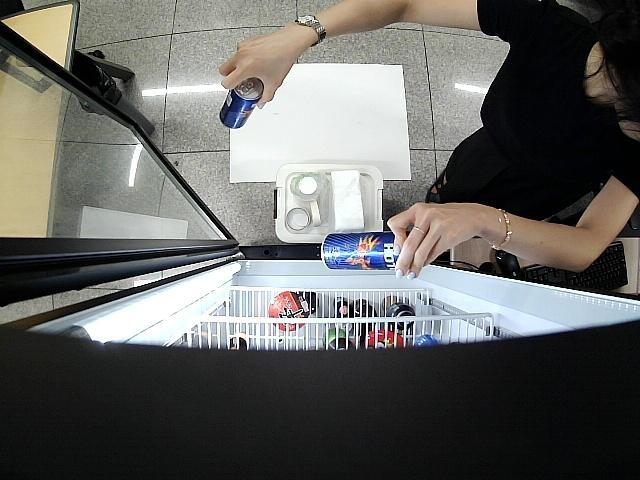16_hot6: (321, 231, 409, 273), (219, 77, 265, 131)
